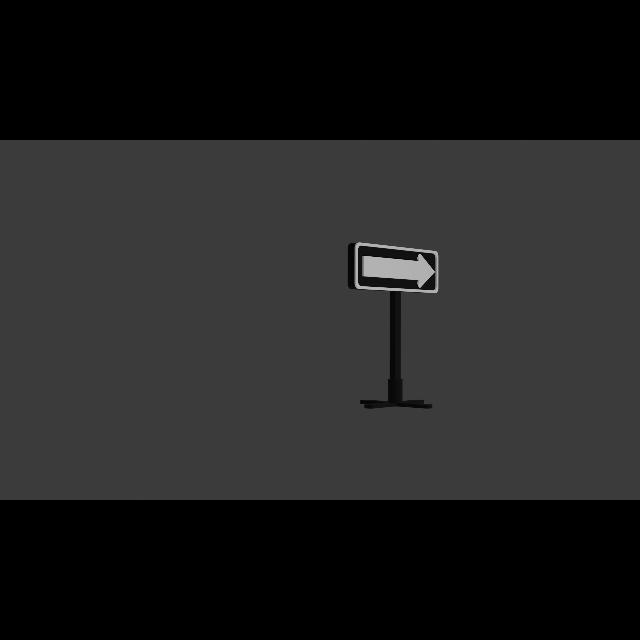sign_oneway_right: (350, 242, 441, 294)
